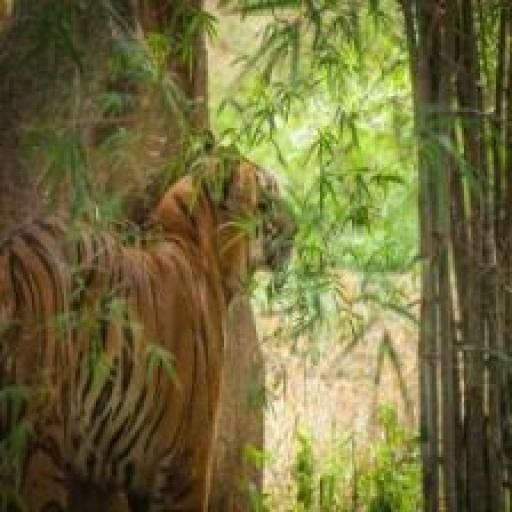Tiger: (0, 130, 306, 509)
